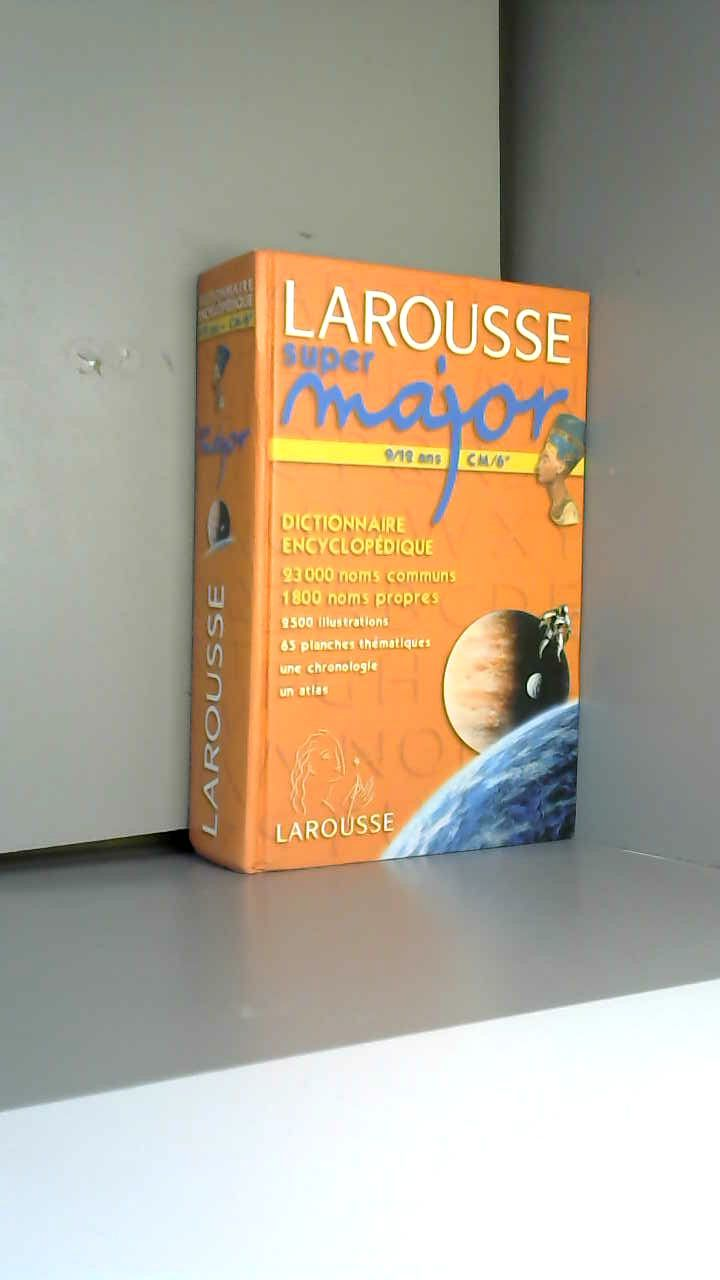book: (155, 218, 632, 908)
